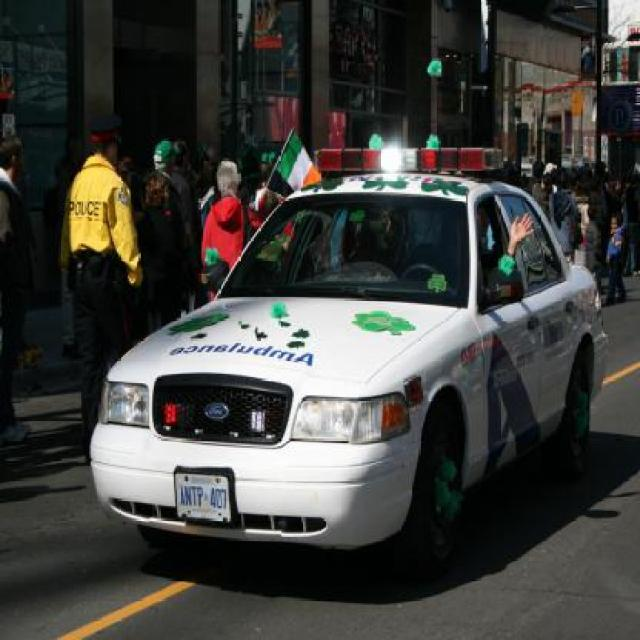License-Plates: (176, 474, 229, 518)
